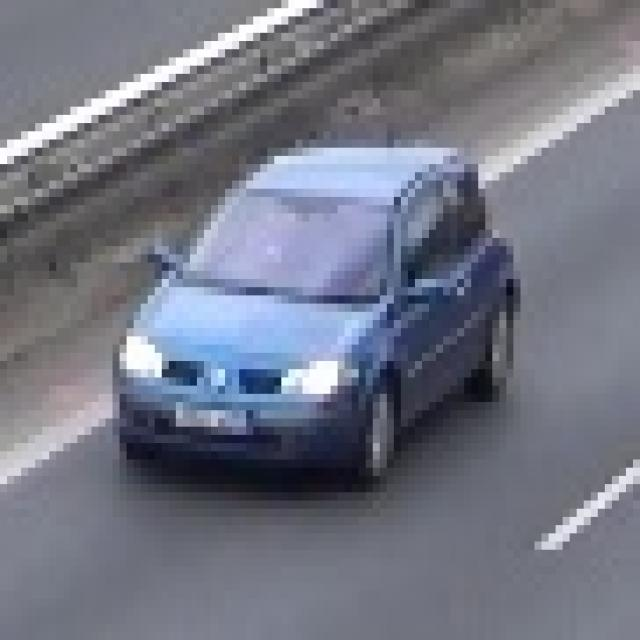blue: (121, 151, 519, 491)
